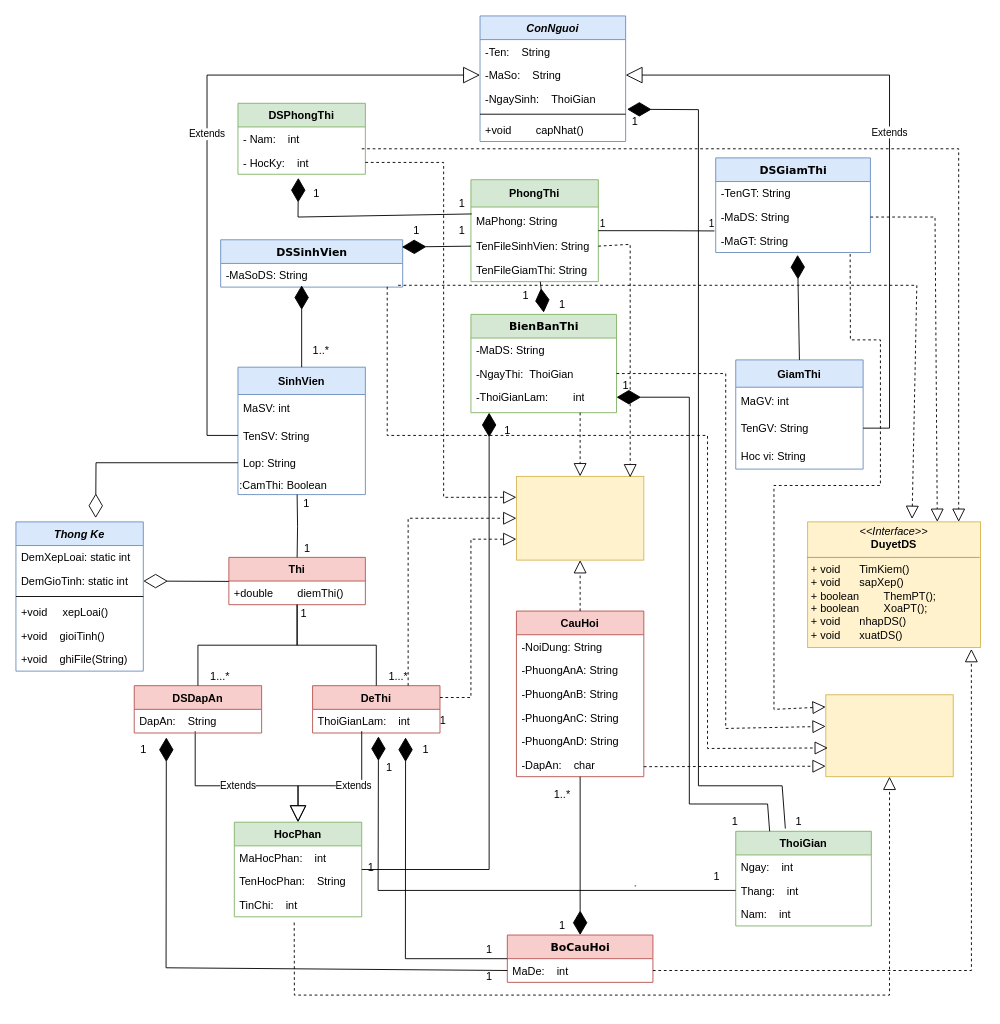
This 1000x1024 diagram has some shape labels left out. The centre of each missing label's shape, as x and y in pixels:
"<<Interface>> ChinhSua + void chinhSua() + void hap() + void Xuat()" belongs at point 580,517.
"<<Interface>> File + void docFile() + void ghiFile()" belongs at point 889,735.
